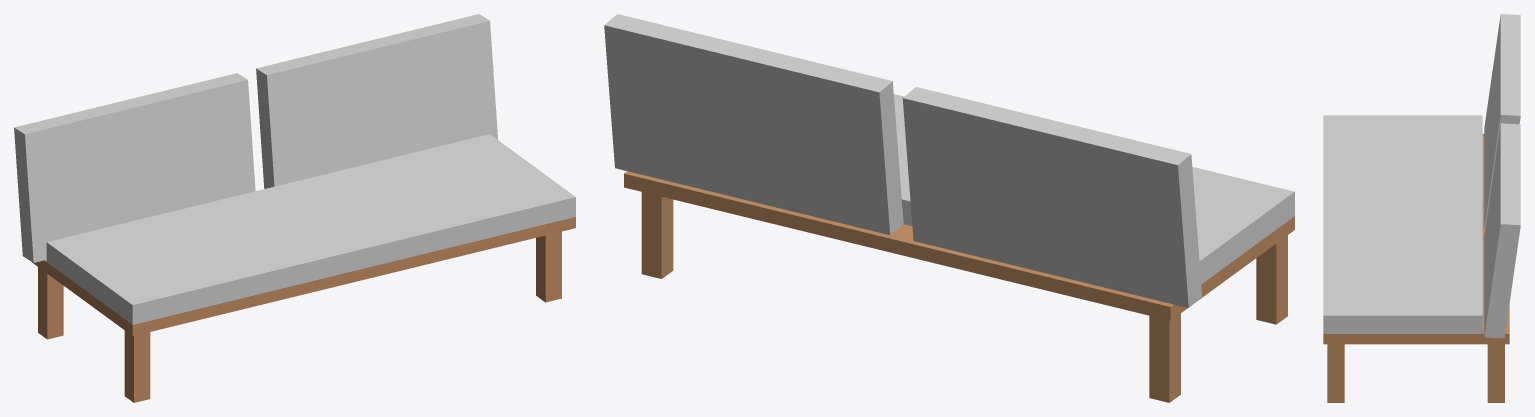
The model's file is couch.fbx.
3 renders of one model, left to right at view 1: azimuth 30°, elevation 25°; view 2: azimuth 150°, elevation 25°; view 3: azimuth 270°, elevation 25°, orthographic. The views are drawn at different scales.
Visible parts, largest first — view 1: couch; view 2: couch; view 3: couch.
Part boxes in pixels (x1=…): couch: x1=14, y1=14, x2=575, y2=402; couch: x1=604, y1=14, x2=1294, y2=402; couch: x1=1323, y1=14, x2=1520, y2=402.
Bounding box in the file's own units: 533 × 223 × 212.
